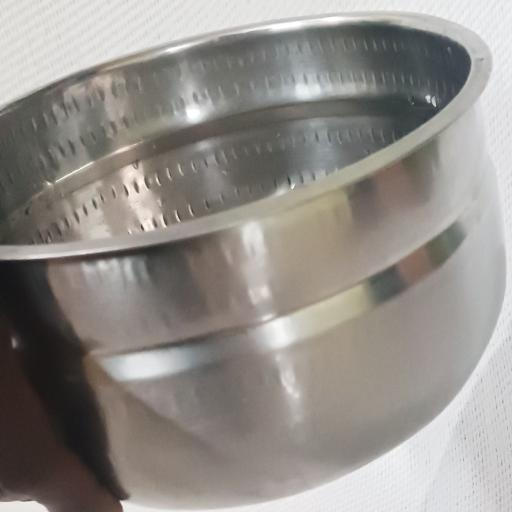vessel: (0, 13, 505, 507)
